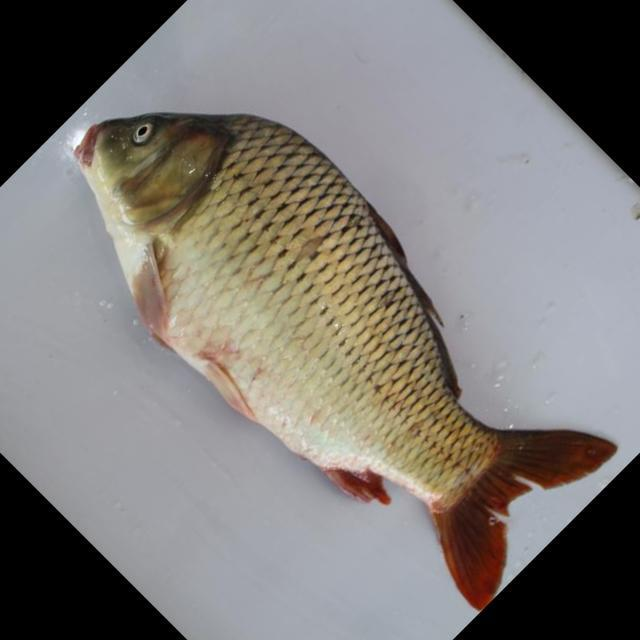CommonCarp: (74, 112, 611, 605)
